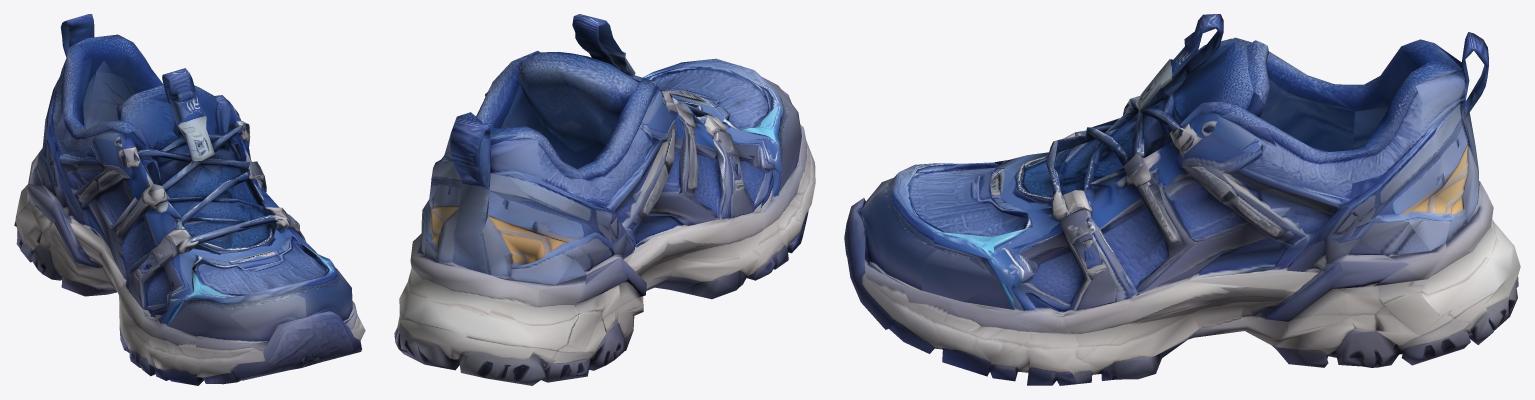
The model's file is tenis_correr_leftFoot.glb.
The picture shows the model from 3 angles, left to right: view 1: azimuth 30°, elevation 25°; view 2: azimuth 150°, elevation 25°; view 3: azimuth 270°, elevation 25°; orthographic projection. The views are drawn at different scales.
Parts seen in each view (by area): view 1: tenis_correr; view 2: tenis_correr; view 3: tenis_correr.
Boxes of the visible parts, <box> form: tenis_correr: <box>14,14,365,385</box>; tenis_correr: <box>394,14,815,385</box>; tenis_correr: <box>844,14,1520,385</box>.
Bounding box in the file's own units: 0.1392 × 0.1567 × 0.3121.
Materials: 1 (1 with a texture image).
